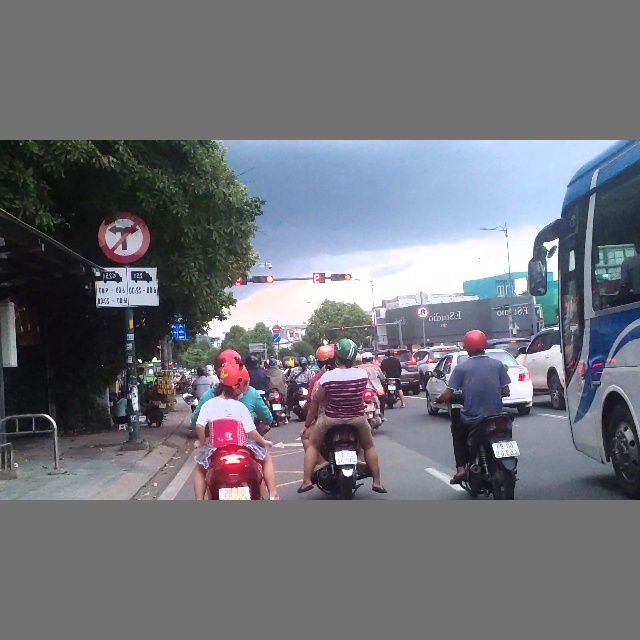P.102: (272, 324, 281, 334)
P.124a*: (416, 305, 430, 319)
P.137: (99, 213, 150, 263)
R.302a: (273, 334, 281, 342)
S.505a*Xe tai: (95, 265, 160, 308)
